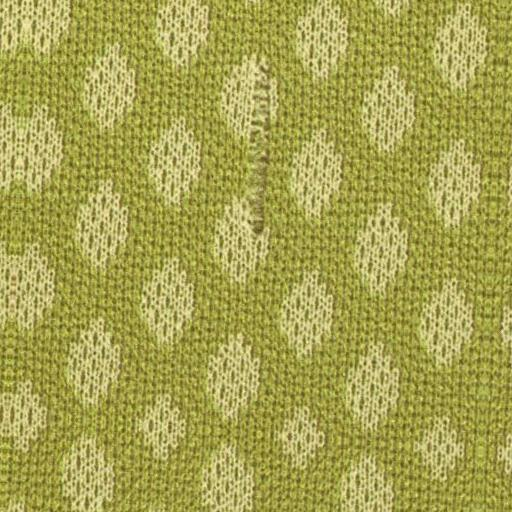slub: (237, 57, 280, 232)
